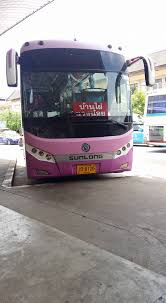bus: (18, 38, 135, 179)
